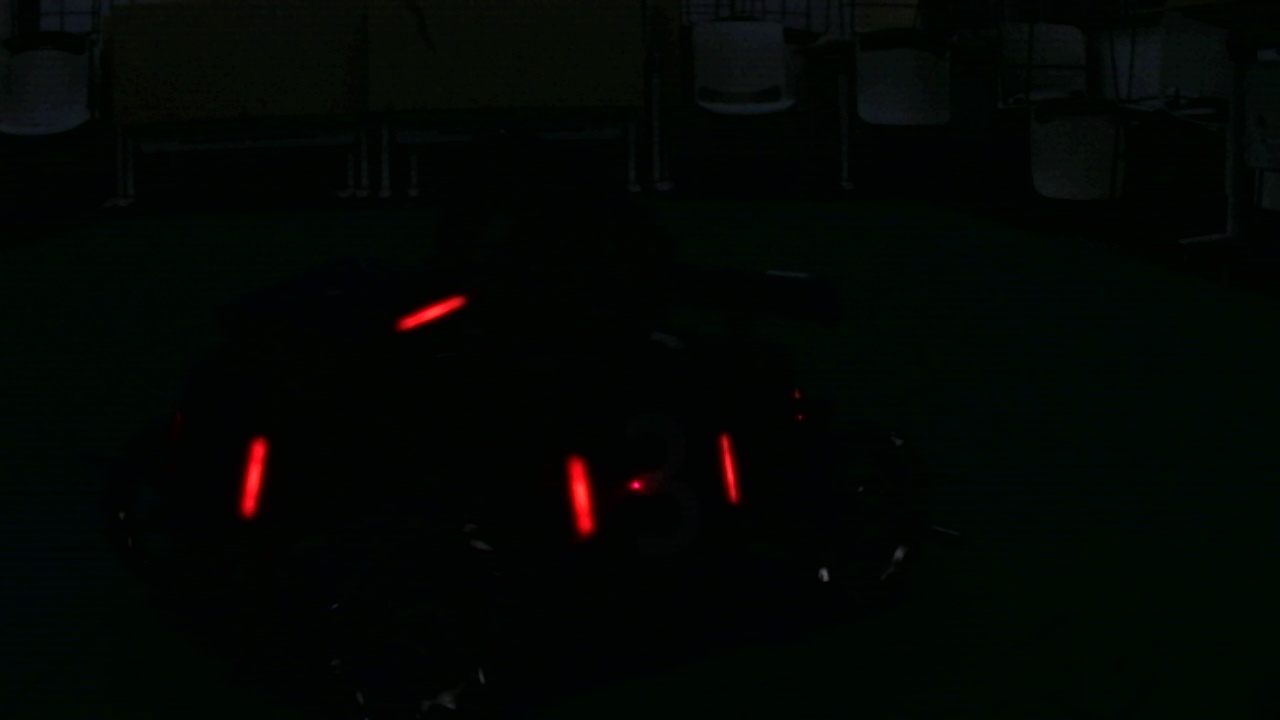lamp: (564, 456, 599, 538), (236, 431, 262, 519), (720, 433, 743, 509)
notpair1: (238, 436, 597, 539)
pair1: (565, 435, 742, 540)
